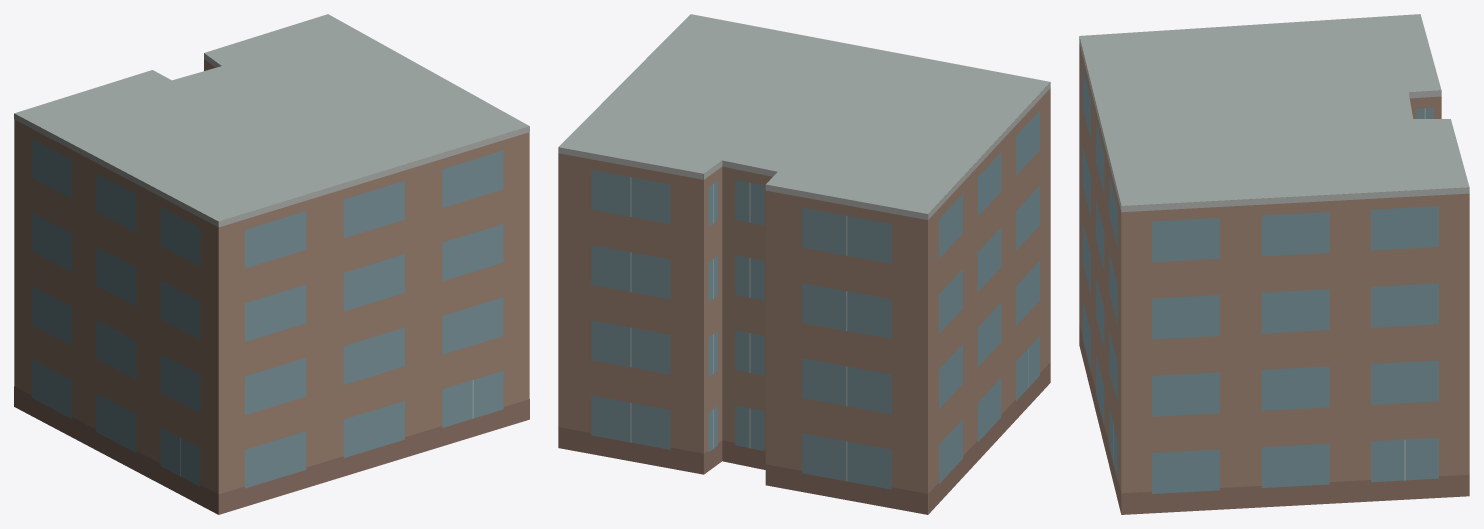
The model's file is survey-upis-32577194.glb.
3 views of the same model, side by side, from view 1: azimuth 30°, elevation 25°; view 2: azimuth 150°, elevation 25°; view 3: azimuth 270°, elevation 25° (orthographic). The views are drawn at different scales.
Parts seen in each view (by area): view 1: survey-upis-32577194.tmp; view 2: survey-upis-32577194.tmp; view 3: survey-upis-32577194.tmp.
Part boxes in pixels (left/top/right/bottom): survey-upis-32577194.tmp: left=14, top=14, right=529, bottom=514; survey-upis-32577194.tmp: left=558, top=14, right=1050, bottom=514; survey-upis-32577194.tmp: left=1079, top=14, right=1469, bottom=514.
Bounding box in the file's own units: 16.11 × 12.08 × 13.84.
